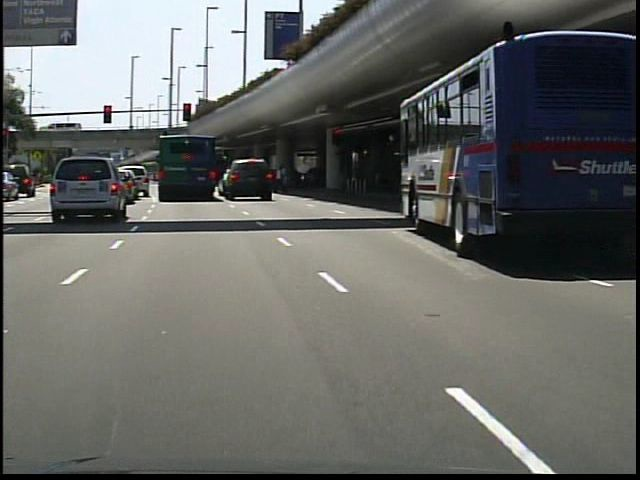person: (274, 160, 294, 197)
